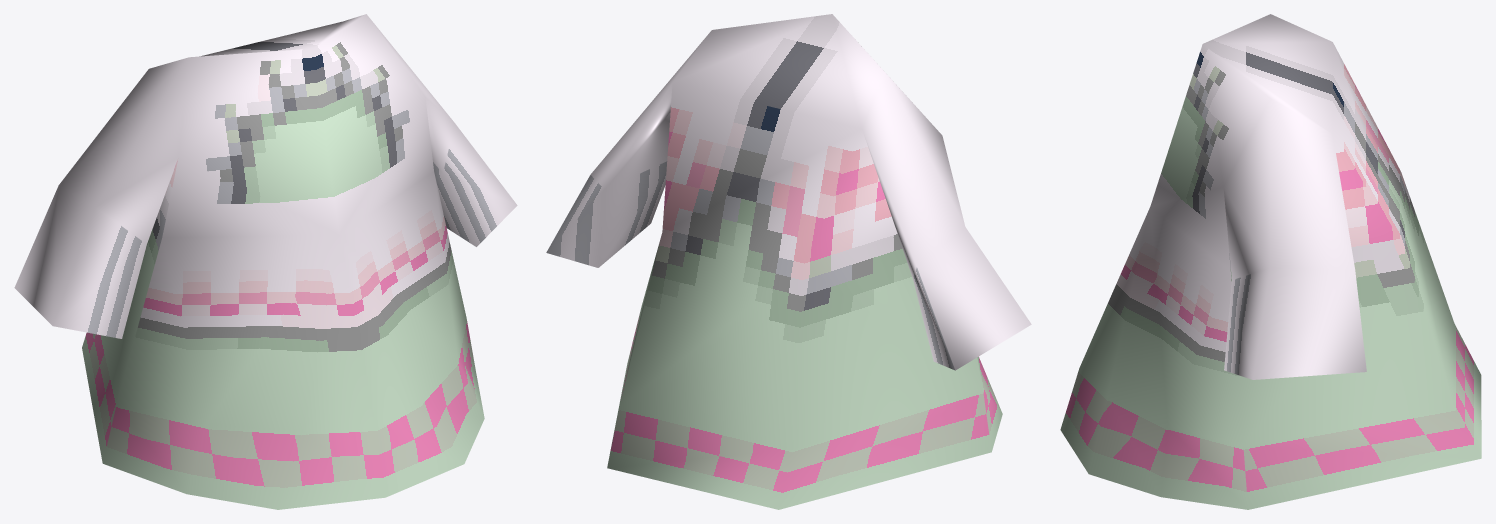
The picture shows the model from 3 angles, left to right: view 1: azimuth 30°, elevation 25°; view 2: azimuth 150°, elevation 25°; view 3: azimuth 270°, elevation 25°; orthographic projection. The views are drawn at different scales.
Parts seen in each view (by area): view 1: 2501dress000_r; view 2: 2501dress000_r; view 3: 2501dress000_r.
Part boxes in pixels (x1,y1,x2,y2): 2501dress000_r: (14,14,517,509); 2501dress000_r: (546,14,1031,509); 2501dress000_r: (1060,14,1481,509).
Bounding box in the file's own units: 1.09 × 0.8945 × 0.8848.
1 material, 1 textured.
